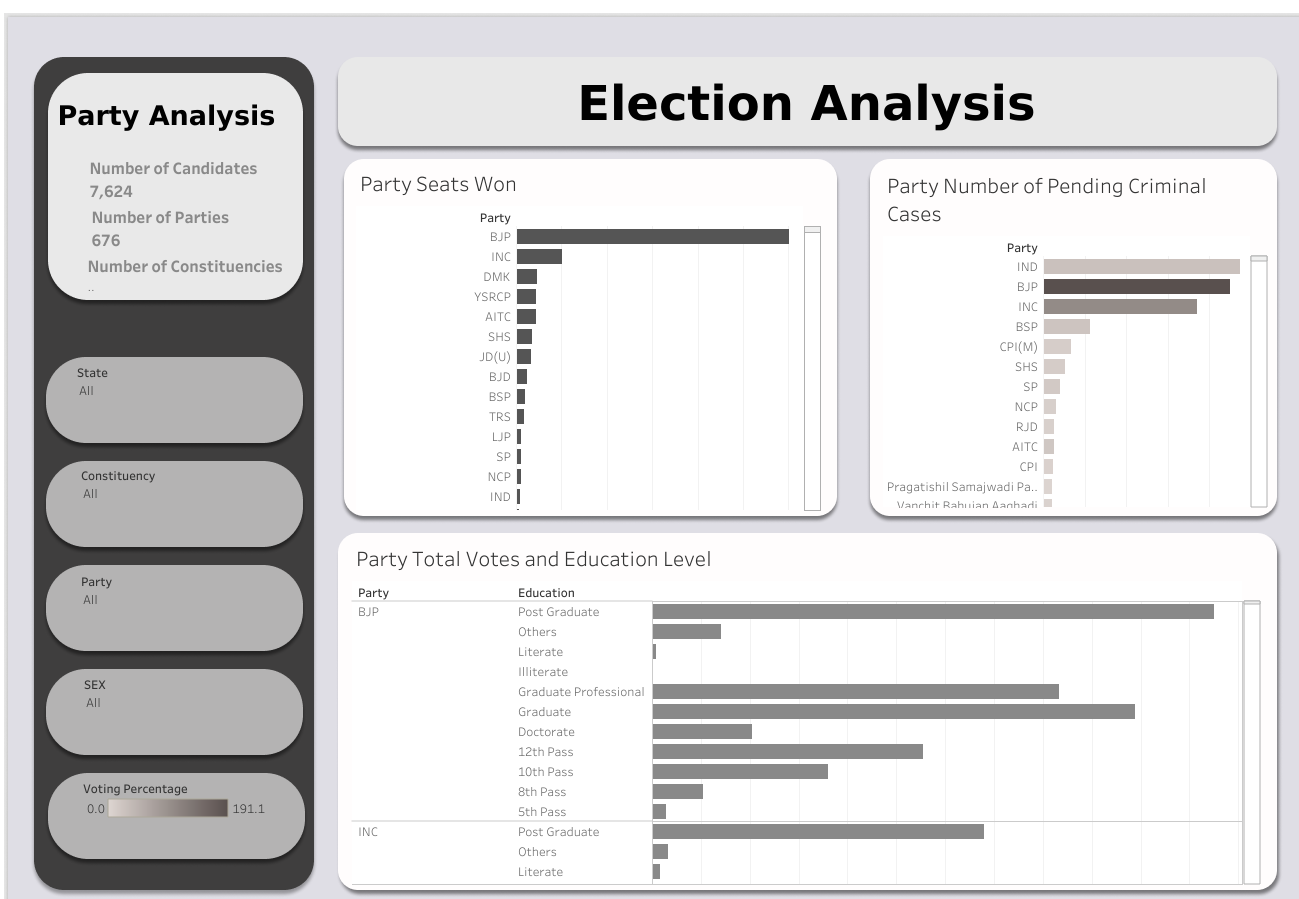

This screenshot's page, from the dashboard's own definition file:
{"tool":"tableau","page":{"name":"Party Analysis","canvas":[1300,900],"ordinal":1},"visuals":[{"type":"worksheet","box":[0,0,1300,900]},{"type":"worksheet","param":"vert","box":[8,8,1284,884]},{"type":"worksheet","box":[8,8,1284,884]},{"type":"worksheet","box":[349,67,915,72]},{"type":"worksheet","box":[55,78,244,75]},{"type":"worksheet","box":[87,155,213,48]},{"type":"worksheet","title":"Party Seats Won","mark":"Automatic","rows":["PARTY"],"cols":["WINNER"],"box":[356,163,465,347]},{"type":"worksheet","title":"Party Number of Pending Criminal Cases","mark":"Automatic","rows":["PARTY"],"cols":["NO_PENDING_CRIMINAL_CASES"],"box":[883,165,385,342]},{"type":"worksheet","box":[89,203,183,49]},{"type":"worksheet","box":[85,252,201,44]},{"type":"worksheet","title":"Party Seats Won","mark":"Automatic","rows":["PARTY"],"cols":["WINNER"],"param":"[federated.03wtox413rziv816c25zp0kh4i3t].[none:STATE:nk]","box":[77,362,194,77]},{"type":"worksheet","title":"Party Seats Won","mark":"Automatic","rows":["PARTY"],"cols":["WINNER"],"param":"[federated.03wtox413rziv816c25zp0kh4i3t].[none:CONSTITUENCY:nk]","box":[81,465,183,78]},{"type":"worksheet","title":"Party Total Votes and Education Level","mark":"Automatic","rows":["PARTY","EDUCATION"],"cols":["TOTAL_VOTES"],"box":[352,538,909,347]},{"type":"worksheet","title":"Party Seats Won","mark":"Automatic","rows":["PARTY"],"cols":["WINNER"],"param":"[federated.03wtox413rziv816c25zp0kh4i3t].[none:PARTY:nk]","box":[81,571,176,73]},{"type":"worksheet","title":"Party Seats Won","mark":"Automatic","rows":["PARTY"],"cols":["WINNER"],"param":"[federated.03wtox413rziv816c25zp0kh4i3t].[none:SEX:nk]","box":[84,674,178,79]},{"type":"worksheet","title":"Party Number of Pending Criminal Cases","mark":"Automatic","rows":["PARTY"],"cols":["NO_PENDING_CRIMINAL_CASES"],"param":"[federated.03wtox413rziv816c25zp0kh4i3t].[sum:VOTING_PERCENTAGE:qk]","box":[83,775,187,78]}]}

Visuals, with their boxes in screenshot pixels (x1, y1, x2, y2), scaled from the page's 1300x900 canvas onto the 1299x899 screenshot:
worksheet: {"x1": 0, "y1": 0, "x2": 1298, "y2": 898}
worksheet: {"x1": 8, "y1": 8, "x2": 1291, "y2": 891}
worksheet: {"x1": 8, "y1": 8, "x2": 1291, "y2": 891}
worksheet: {"x1": 349, "y1": 67, "x2": 1263, "y2": 139}
worksheet: {"x1": 55, "y1": 78, "x2": 299, "y2": 153}
worksheet: {"x1": 87, "y1": 155, "x2": 300, "y2": 203}
"Party Seats Won" worksheet: {"x1": 356, "y1": 163, "x2": 820, "y2": 509}
"Party Number of Pending Criminal Cases" worksheet: {"x1": 882, "y1": 165, "x2": 1267, "y2": 506}
worksheet: {"x1": 89, "y1": 203, "x2": 272, "y2": 252}
worksheet: {"x1": 85, "y1": 252, "x2": 286, "y2": 296}
"Party Seats Won" worksheet: {"x1": 77, "y1": 362, "x2": 271, "y2": 439}
"Party Seats Won" worksheet: {"x1": 81, "y1": 464, "x2": 264, "y2": 542}
"Party Total Votes and Education Level" worksheet: {"x1": 352, "y1": 537, "x2": 1260, "y2": 884}
"Party Seats Won" worksheet: {"x1": 81, "y1": 570, "x2": 257, "y2": 643}
"Party Seats Won" worksheet: {"x1": 84, "y1": 673, "x2": 262, "y2": 752}
"Party Number of Pending Criminal Cases" worksheet: {"x1": 83, "y1": 774, "x2": 270, "y2": 852}
